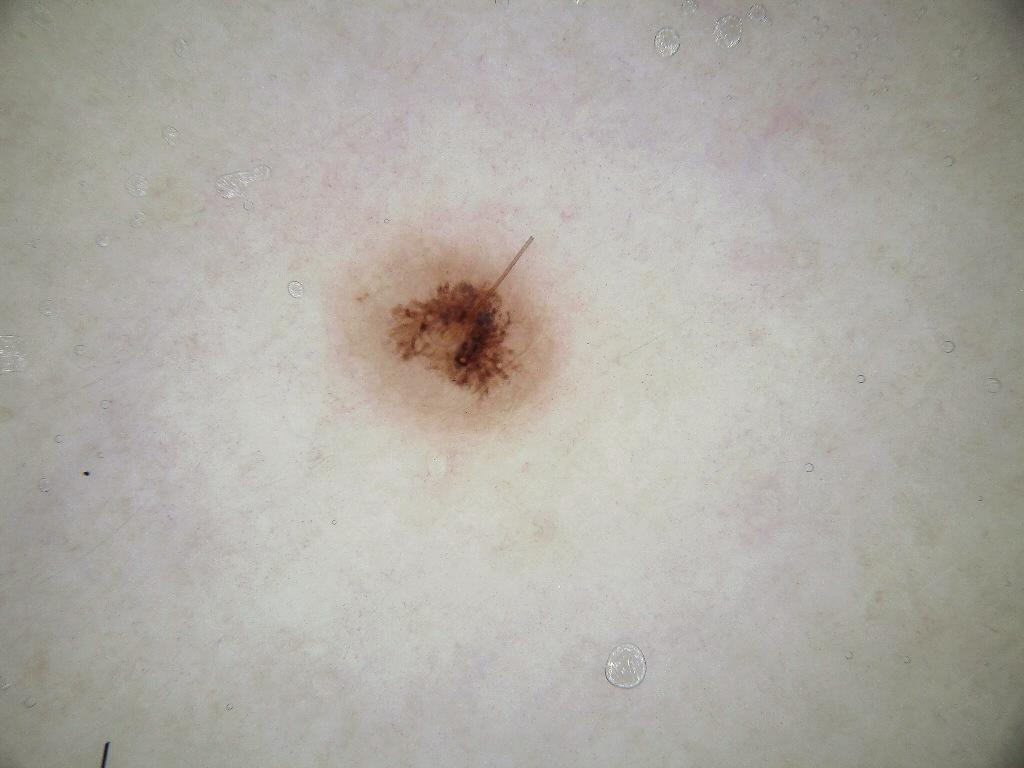Detected Lesion: (354, 260, 549, 420)
